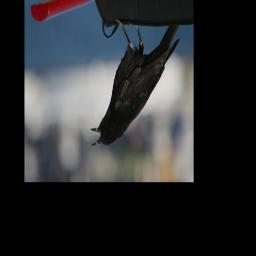Crow: (89, 15, 181, 149)
